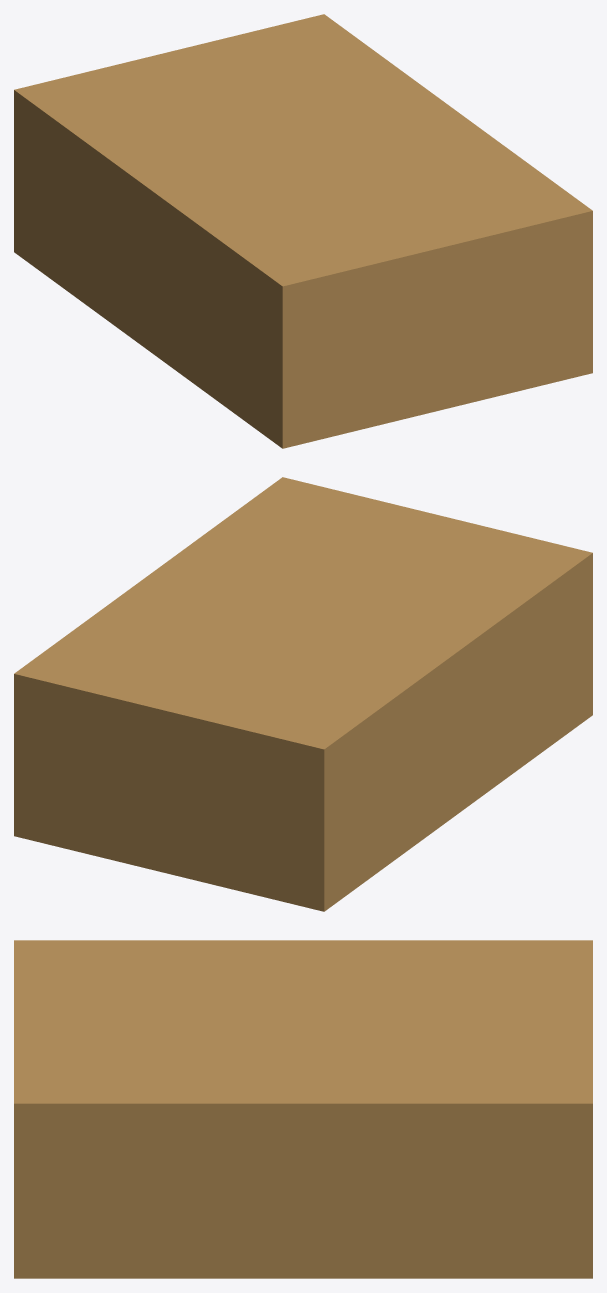
3 renders of one model, top to bottom at view 1: azimuth 30°, elevation 25°; view 2: azimuth 150°, elevation 25°; view 3: azimuth 270°, elevation 25°, orthographic. The views are drawn at different scales.
Parts seen in each view (by area): view 1: RUN-068-S02-top_plate; view 2: RUN-068-S02-top_plate; view 3: RUN-068-S02-top_plate.
Boxes of the visible parts, x1,y1,x2,y2 form: RUN-068-S02-top_plate: [14, 14, 592, 448]; RUN-068-S02-top_plate: [14, 477, 592, 911]; RUN-068-S02-top_plate: [14, 940, 592, 1278].
Bounding box in the file's own units: 0.09 × 0.045 × 0.135.
